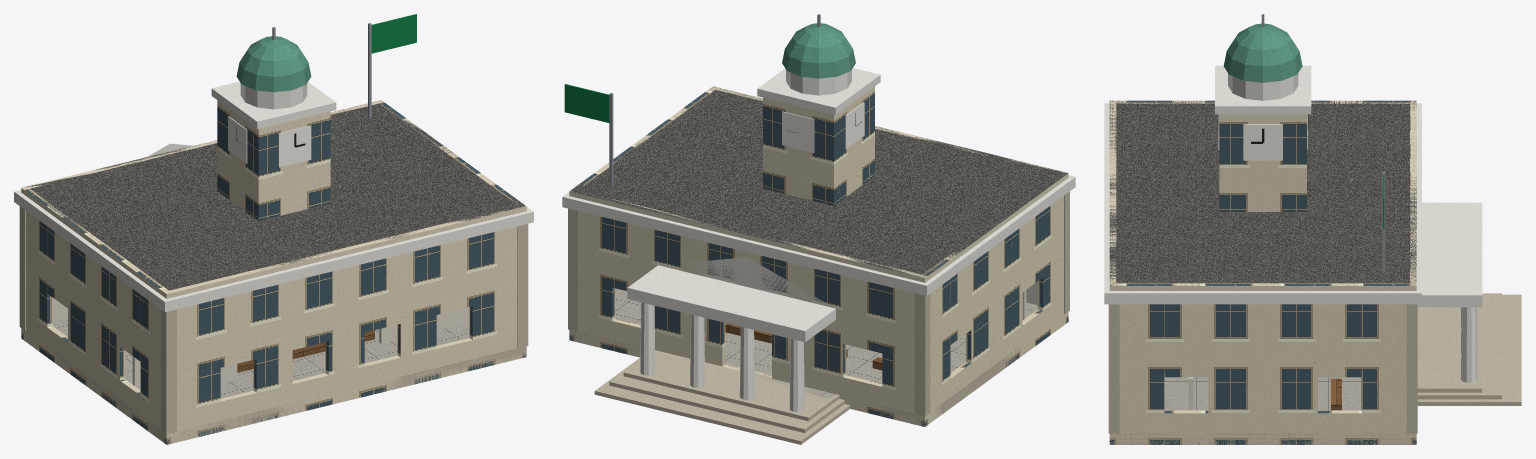
File: town_hall.glb
3 renders of one model, left to right at view 1: azimuth 30°, elevation 25°; view 2: azimuth 150°, elevation 25°; view 3: azimuth 270°, elevation 25°, orthographic. The views are drawn at different scales.
Visible parts, largest first — view 1: town_hall; view 2: town_hall; view 3: town_hall.
Boxes of the visible parts, box(x1,y1,x2,y2) form: town_hall: box(14, 14, 533, 444); town_hall: box(562, 14, 1075, 444); town_hall: box(1104, 14, 1521, 444).
Size of the model in its own units: 21.35 by 17 by 19.05.
12 materials, 12 textured.
